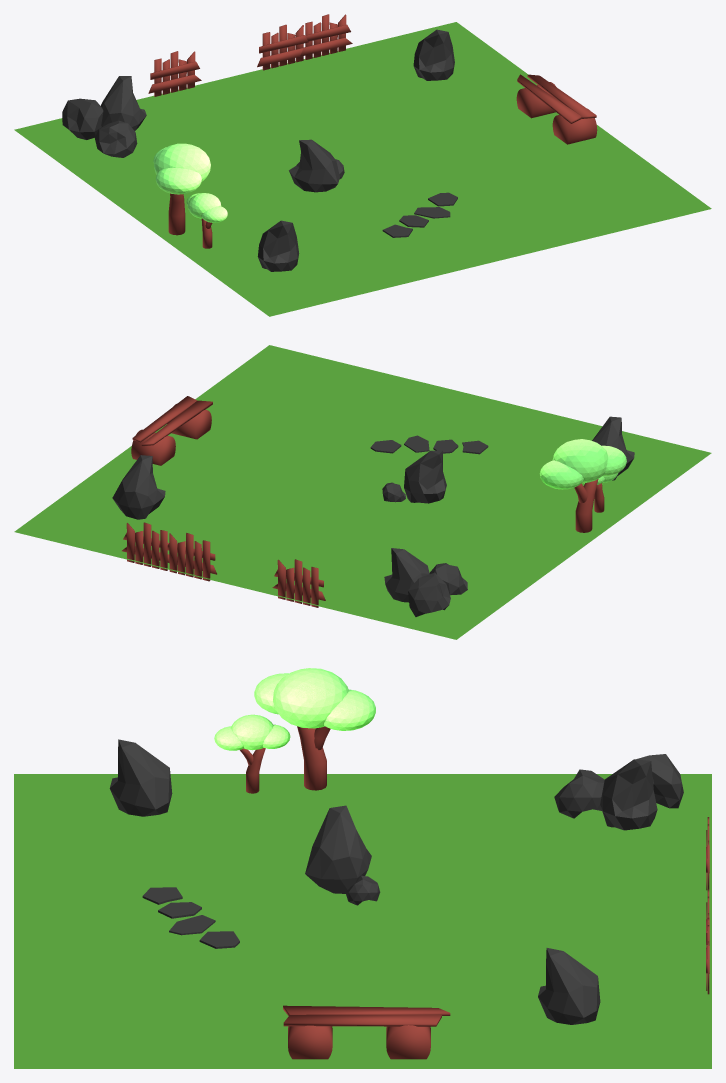
Rendered from exportGLTFTest.glb.
3 renders of one model, top to bottom at view 1: azimuth 30°, elevation 25°; view 2: azimuth 150°, elevation 25°; view 3: azimuth 270°, elevation 25°, orthographic. The views are drawn at different scales.
Parts seen in each view (by area): view 1: Floor, Rocks, Wood, Leaves; view 2: Floor, Rocks, Wood, Leaves; view 3: Floor, Rocks, Wood, Leaves.
Part boxes in pixels (bbox=[...]): Floor: bbox=[14, 22, 711, 316]; Rocks: bbox=[62, 29, 457, 271]; Wood: bbox=[148, 14, 597, 248]; Leaves: bbox=[153, 143, 227, 222]; Floor: bbox=[14, 345, 711, 639]; Rocks: bbox=[112, 416, 634, 616]; Wood: bbox=[122, 396, 604, 607]; Leaves: bbox=[539, 439, 626, 489]; Floor: bbox=[14, 774, 711, 1068]; Rocks: bbox=[109, 739, 683, 1024]; Wood: bbox=[240, 726, 709, 1059]; Leaves: bbox=[214, 668, 375, 750].
Bounding box in the file's own units: 7.01 × 1.34 × 6.84.
